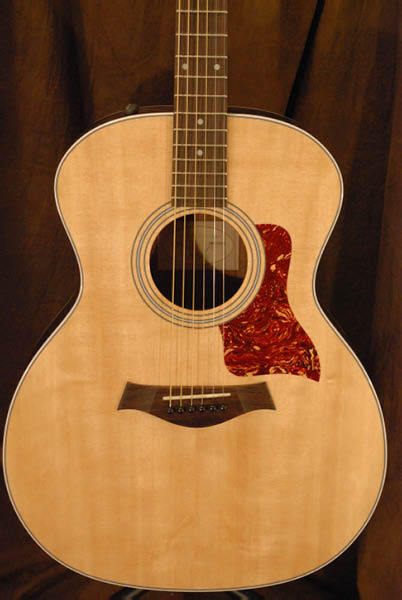guitar: (1, 4, 391, 597)
